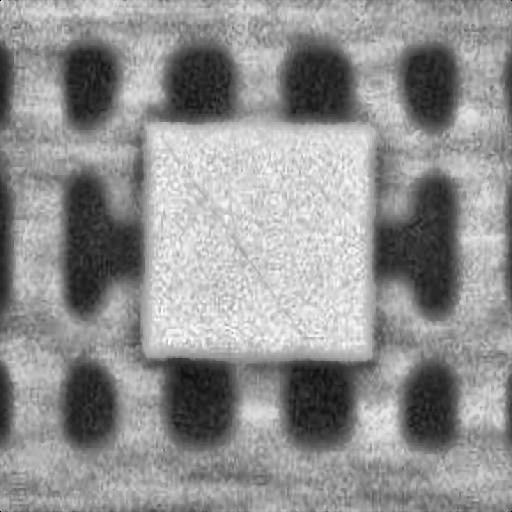DIE_CRACK: (238, 89, 454, 225)
